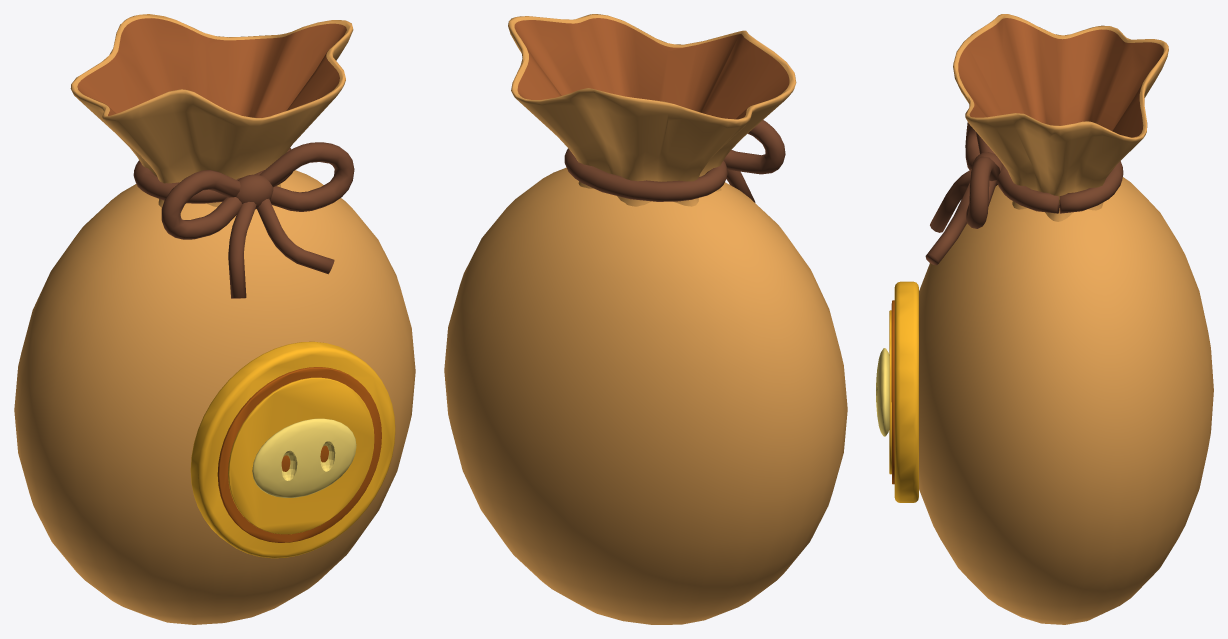
The model's file is loot-bag.fbx.
The picture shows the model from 3 angles, left to right: view 1: azimuth 30°, elevation 25°; view 2: azimuth 150°, elevation 25°; view 3: azimuth 270°, elevation 25°; orthographic projection. The views are drawn at different scales.
Parts seen in each view (by area): view 1: Cloth, Gold, Lining, Rope, GoldLight, GoldDark; view 2: Cloth, Lining, Rope; view 3: Cloth, Lining, Rope, Gold, GoldLight, GoldDark.
Boxes of the visible parts, bbox=[...] form: Cloth: bbox=[14, 14, 415, 624]; Gold: bbox=[190, 341, 395, 558]; Lining: bbox=[77, 18, 346, 117]; Rope: bbox=[133, 142, 354, 298]; GoldLight: bbox=[252, 418, 356, 497]; GoldDark: bbox=[217, 367, 381, 542]; Cloth: bbox=[444, 14, 847, 624]; Lining: bbox=[514, 18, 789, 119]; Rope: bbox=[564, 120, 785, 202]; Cloth: bbox=[919, 14, 1213, 624]; Lining: bbox=[958, 18, 1163, 137]; Rope: bbox=[925, 122, 1123, 265]; Gold: bbox=[889, 281, 918, 502]; GoldLight: bbox=[876, 348, 889, 436]; GoldDark: bbox=[891, 300, 894, 484].
Size of the model in its own units: 205 by 301 by 167.
